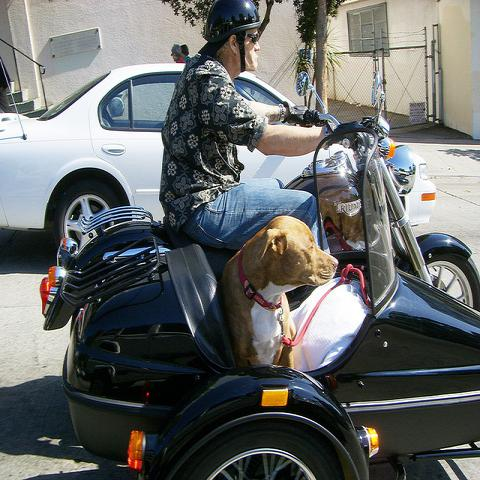car: (1, 62, 439, 248)
motorcycle: (36, 107, 479, 475)
